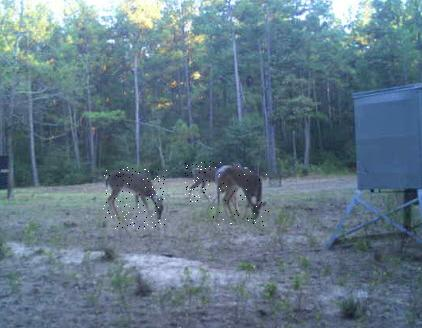Deer: (103, 167, 168, 229), (210, 164, 269, 226), (185, 161, 225, 202)
